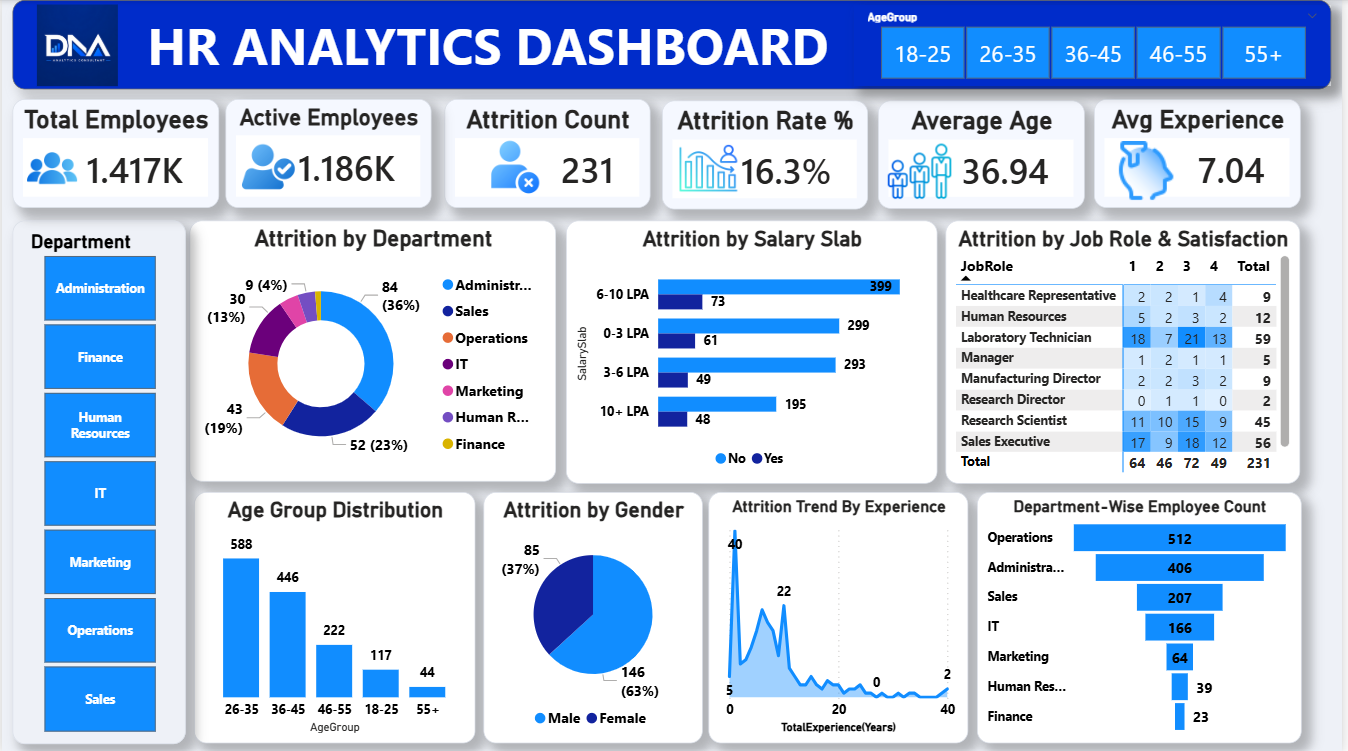

The dashboard page shown, as its layout file describes it:
{"tool":"powerbi","page":{"name":"Dashboard","canvas":[1280,720],"ordinal":0},"visuals":[{"type":"textbox","box":[10,0,1259,85],"z":0},{"type":"image","box":[28.2,3.9,86.6,77.8],"z":1000},{"type":"cardVisual","title":"Total Employees","fields":{"Data":["CountNonNull(HR_Analytics.EmpID)"]},"box":[10,95,197,104],"z":2000},{"type":"cardVisual","title":"Attrition Count","fields":{"Data":["Sum(HR_Analytics.AttritionCount)"]},"box":[422.1,94.3,196.5,104.1],"z":3000},{"type":"cardVisual","title":"Attrition Rate %","fields":{"Data":["HR_Analytics.Attrition Rate %"]},"box":[630.3,95.3,196.5,104.1],"z":4000},{"type":"cardVisual","title":"Average Age","fields":{"Data":["Avg(HR_Analytics.Age)"]},"box":[836.5,95.3,197.4,103.1],"z":5000},{"type":"cardVisual","title":"Avg Experience","fields":{"Data":["Avg(HR_Analytics.YearsatCompany)"]},"box":[1042.7,94.3,197.4,104.1],"z":6000},{"type":"cardVisual","title":"Active Employees","fields":{"Data":["CountNonNull(HR_Analytics.EmployeeCount)"]},"box":[214,94.3,196.5,104.1],"z":7000},{"type":"image","box":[16.9,133.5,61.8,54.8],"z":8000},{"type":"image","box":[226.1,133.5,55.8,51.8],"z":9000},{"type":"image","box":[459.2,133.5,60.8,52.8],"z":10000},{"type":"image","box":[640.5,133.5,68.7,54.8],"z":11000},{"type":"image","box":[836.7,133.5,79.7,60.8],"z":12000},{"type":"image","box":[1054.9,134.5,76.7,59.8],"z":13000},{"type":"donutChart","title":"Attrition by Department","fields":{"Category":["HR_Analytics.Department"],"Y":["Sum(HR_Analytics.AttritionCount)"]},"box":[179,210,350,249],"z":14000},{"type":"clusteredBarChart","title":"Attrition by Salary Slab","fields":{"Category":["HR_Analytics.SalarySlab"],"Y":["CountNonNull(HR_Analytics.EmpID)"],"Series":["HR_Analytics.Attrition"]},"box":[538.9,210.2,354.6,251],"z":15000},{"type":"pivotTable","title":"Attrition by Job Role & Satisfaction","fields":{"Rows":["HR_Analytics.JobRole"],"Values":["Sum(HR_Analytics.AttritionCount)"],"Columns":["HR_Analytics.JobSatisfaction"]},"box":[901.5,210.2,338.7,251],"z":16000},{"type":"columnChart","title":"Age Group Distribution","fields":{"Category":["HR_Analytics.AgeGroup"],"Y":["Sum(HR_Analytics.EmployeeCount)"]},"box":[183.3,470.2,268.9,240.1],"z":17000},{"type":"pieChart","title":"Attrition by Gender","fields":{"Category":["HR_Analytics.Gender"],"Y":["Sum(HR_Analytics.AttritionCount)"]},"box":[459.2,470.2,209.2,240.1],"z":18000},{"type":"areaChart","title":"Attrition Trend By Experience","fields":{"Category":["HR_Analytics.TotalExperience(Years)"],"Y2":["Sum(HR_Analytics.AttritionCount)"]},"box":[675.4,470.2,248,240.1],"z":19000},{"type":"funnel","title":"Department-Wise Employee Count","fields":{"Category":["HR_Analytics.Department"],"Y":["CountNonNull(HR_Analytics.EmpID)"]},"box":[930.4,470.2,309.8,240.1],"z":20000},{"type":"slicer","fields":{"Values":["HR_Analytics.Department"]},"box":[10,210.2,165.4,500],"z":21000},{"type":"slicer","fields":{"Values":["HR_Analytics.AgeGroup"]},"box":[813.8,4,455.2,77.7],"z":21001}]}

Visuals, with their boxes in screenshot pixels (x1, y1, x2, y2), scaled from the page's 1280x720 canvas onto the 1348x751 screenshot:
textbox: (x1=11, y1=0, x2=1336, y2=89)
image: (x1=30, y1=4, x2=121, y2=85)
"Total Employees" cardVisual: (x1=11, y1=99, x2=218, y2=208)
"Attrition Count" cardVisual: (x1=445, y1=98, x2=651, y2=207)
"Attrition Rate %" cardVisual: (x1=664, y1=99, x2=871, y2=208)
"Average Age" cardVisual: (x1=881, y1=99, x2=1089, y2=207)
"Avg Experience" cardVisual: (x1=1098, y1=98, x2=1306, y2=207)
"Active Employees" cardVisual: (x1=225, y1=98, x2=432, y2=207)
image: (x1=18, y1=139, x2=83, y2=196)
image: (x1=238, y1=139, x2=297, y2=193)
image: (x1=484, y1=139, x2=548, y2=194)
image: (x1=675, y1=139, x2=747, y2=196)
image: (x1=881, y1=139, x2=965, y2=203)
image: (x1=1111, y1=140, x2=1192, y2=203)
"Attrition by Department" donutChart: (x1=189, y1=219, x2=557, y2=479)
"Attrition by Salary Slab" clusteredBarChart: (x1=568, y1=219, x2=941, y2=481)
"Attrition by Job Role & Satisfaction" pivotTable: (x1=949, y1=219, x2=1306, y2=481)
"Age Group Distribution" columnChart: (x1=193, y1=490, x2=476, y2=741)
"Attrition by Gender" pieChart: (x1=484, y1=490, x2=704, y2=741)
"Attrition Trend By Experience" areaChart: (x1=711, y1=490, x2=972, y2=741)
"Department-Wise Employee Count" funnel: (x1=980, y1=490, x2=1306, y2=741)
slicer - HR_Analytics.Department: (x1=11, y1=219, x2=185, y2=741)
slicer - HR_Analytics.AgeGroup: (x1=857, y1=4, x2=1336, y2=85)
